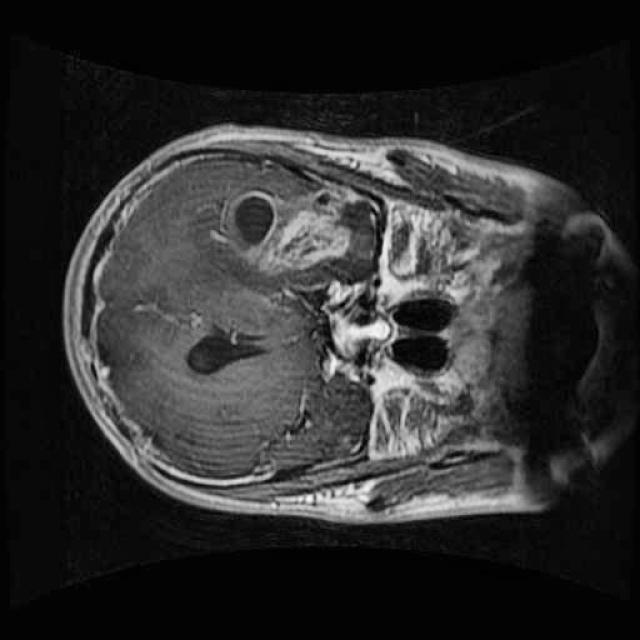Tumor: (207, 159, 367, 283)
